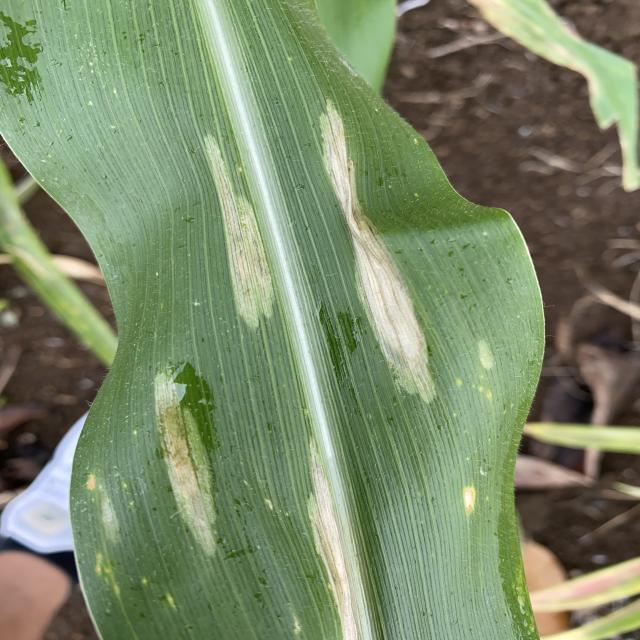Corn_Leaf_Blight: (69, 0, 552, 640)
